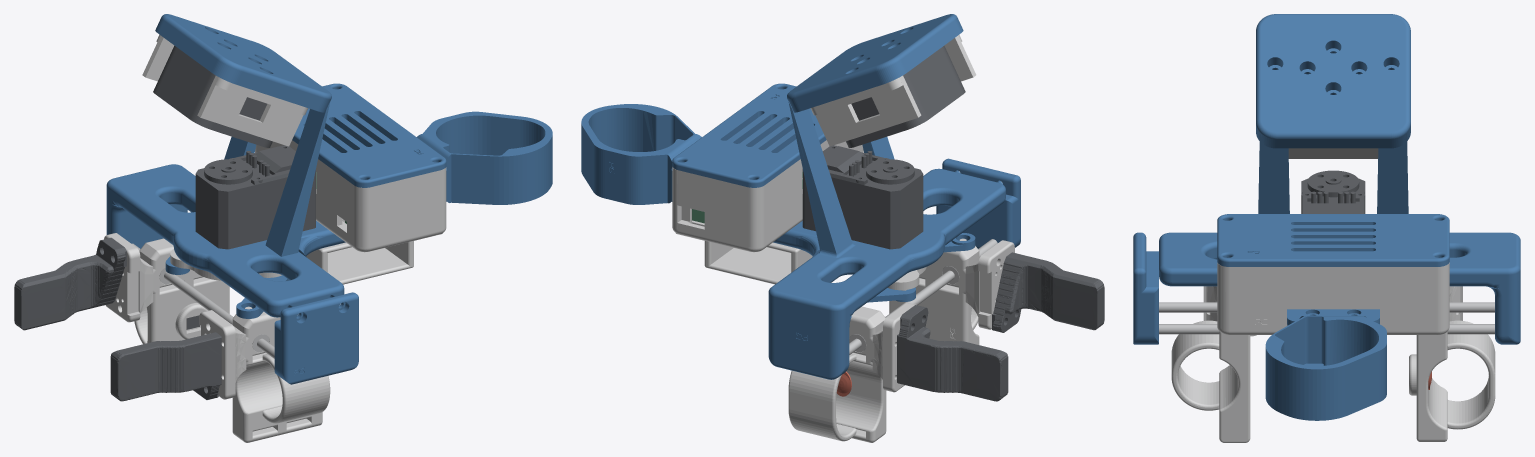
The model's file is umi_right_robotiq-hand-e.glb.
3 views of the same model, side by side, from view 1: azimuth 30°, elevation 25°; view 2: azimuth 150°, elevation 25°; view 3: azimuth 270°, elevation 25° (orthographic). The views are drawn at different scales.
Visible parts, largest first — view 1: main_support, controller_support, thumb_link, electronics_box, servo_sts3215, electronics_lid, index_link, main_support_cover_plate, tip_thumb, tip_index, camera_hood, d405 (+2 smaller); view 2: main_support, controller_support, index_link, electronics_box, servo_sts3215, electronics_lid, tip_index, thumb_link, tip_thumb, camera_hood, d405, main_support_cover_plate (+2 smaller); view 3: main_support, electronics_box, electronics_lid, controller_support, index_link, thumb_link, main_support_cover_plate, servo_sts3215, rod_-8, rod_-28, camera_hood.
Boxes of the visible parts, box(x1,y1,x2,y2) form: main_support: box(106, 14, 345, 317); controller_support: box(417, 111, 552, 204); thumb_link: box(199, 306, 330, 442); electronics_box: box(255, 140, 446, 252); servo_sts3215: box(195, 145, 315, 249); electronics_lid: box(292, 83, 446, 187); index_link: box(104, 233, 229, 344); main_support_cover_plate: box(274, 292, 358, 384); tip_thumb: box(110, 332, 221, 401); tip_index: box(14, 237, 126, 330); camera_hood: box(142, 34, 307, 146); d405: box(153, 45, 272, 147); main_support: box(768, 14, 1005, 379); controller_support: box(581, 104, 701, 204); index_link: box(788, 302, 915, 442); electronics_box: box(672, 140, 863, 252); servo_sts3215: box(802, 145, 923, 249); electronics_lid: box(672, 83, 826, 187); tip_index: box(897, 305, 1008, 401); thumb_link: box(889, 238, 1014, 344); tip_thumb: box(992, 252, 1104, 332); camera_hood: box(810, 35, 976, 146); d405: box(846, 46, 965, 147); main_support_cover_plate: box(936, 158, 1020, 248); main_support: box(1159, 14, 1520, 344); electronics_box: box(1217, 262, 1449, 334); electronics_lid: box(1217, 214, 1449, 266); controller_support: box(1265, 309, 1386, 420); index_link: box(1409, 286, 1495, 441); thumb_link: box(1171, 286, 1256, 442); main_support_cover_plate: box(1133, 232, 1158, 344); servo_sts3215: box(1301, 170, 1365, 213); rod_-8: box(1159, 324, 1494, 334); rod_-28: box(1159, 302, 1494, 312); camera_hood: box(1288, 148, 1378, 158).
Size of the model in its own units: 0.2246 by 0.1669 by 0.15.
